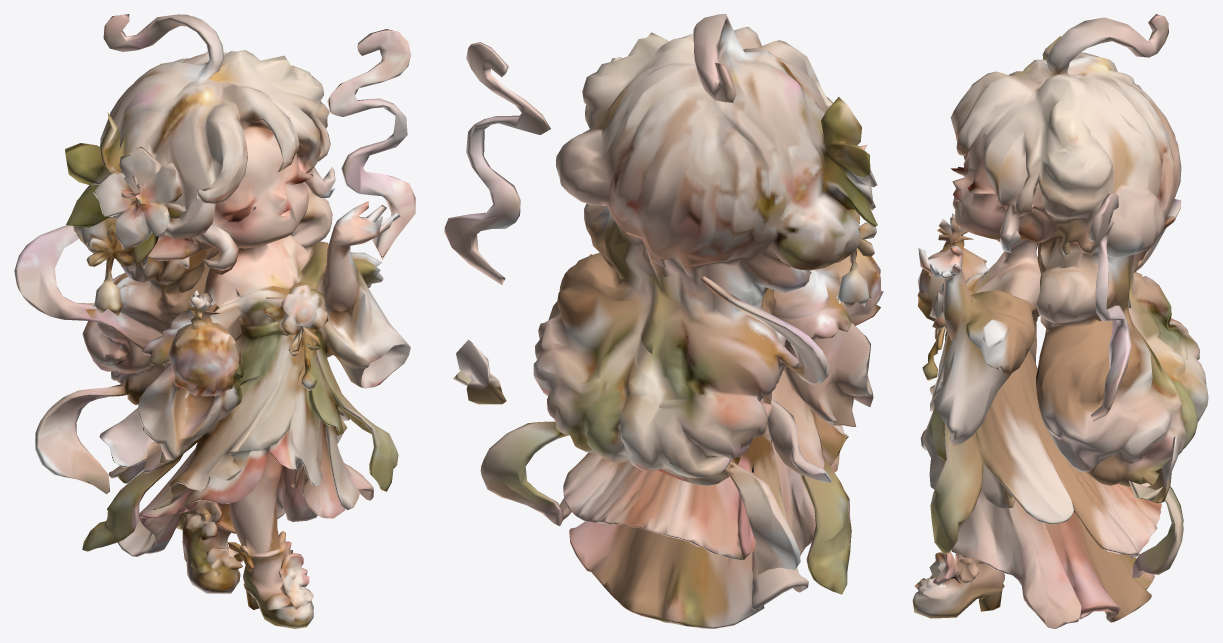
File: original.glb
The picture shows the model from 3 angles, left to right: view 1: azimuth 30°, elevation 25°; view 2: azimuth 150°, elevation 25°; view 3: azimuth 270°, elevation 25°; orthographic projection. The views are drawn at different scales.
Visible parts, largest first — view 1: Body; view 2: Body; view 3: Body.
Part boxes in pixels (box(x1,y1,x2,y2)): Body: box(14, 14, 415, 628); Body: box(444, 14, 883, 628); Body: box(912, 14, 1208, 628).
Bounding box in the file's own units: 0.705 × 0.9995 × 0.4663.
1 material, 1 textured.
